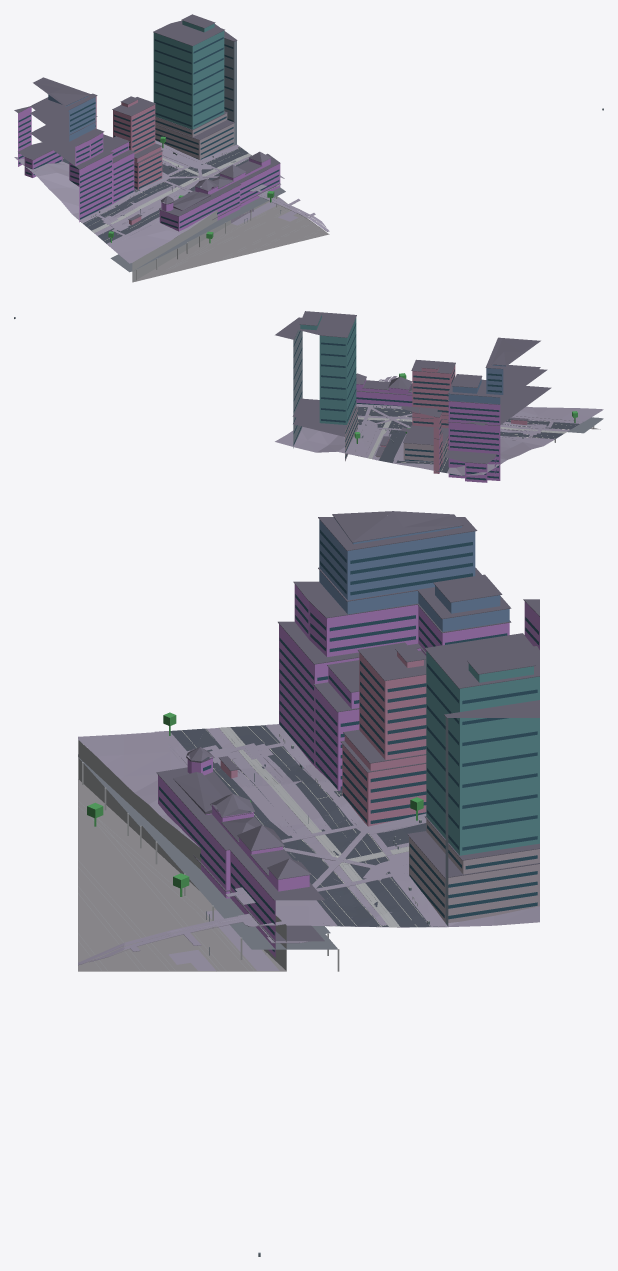
The picture shows the model from 3 angles, top to bottom: view 1: azimuth 30°, elevation 25°; view 2: azimuth 150°, elevation 25°; view 3: azimuth 270°, elevation 25°; orthographic projection. The views are drawn at different scales.
Visible parts, largest first — view 1: compiled-chunk; view 2: compiled-chunk; view 3: compiled-chunk.
Part boxes in pixels (x1,y1,x2,y2): compiled-chunk: (14,14,603,282); compiled-chunk: (14,311,603,482); compiled-chunk: (78,511,539,1256).
Size of the model in its own units: 312 by 81.34 by 120.
